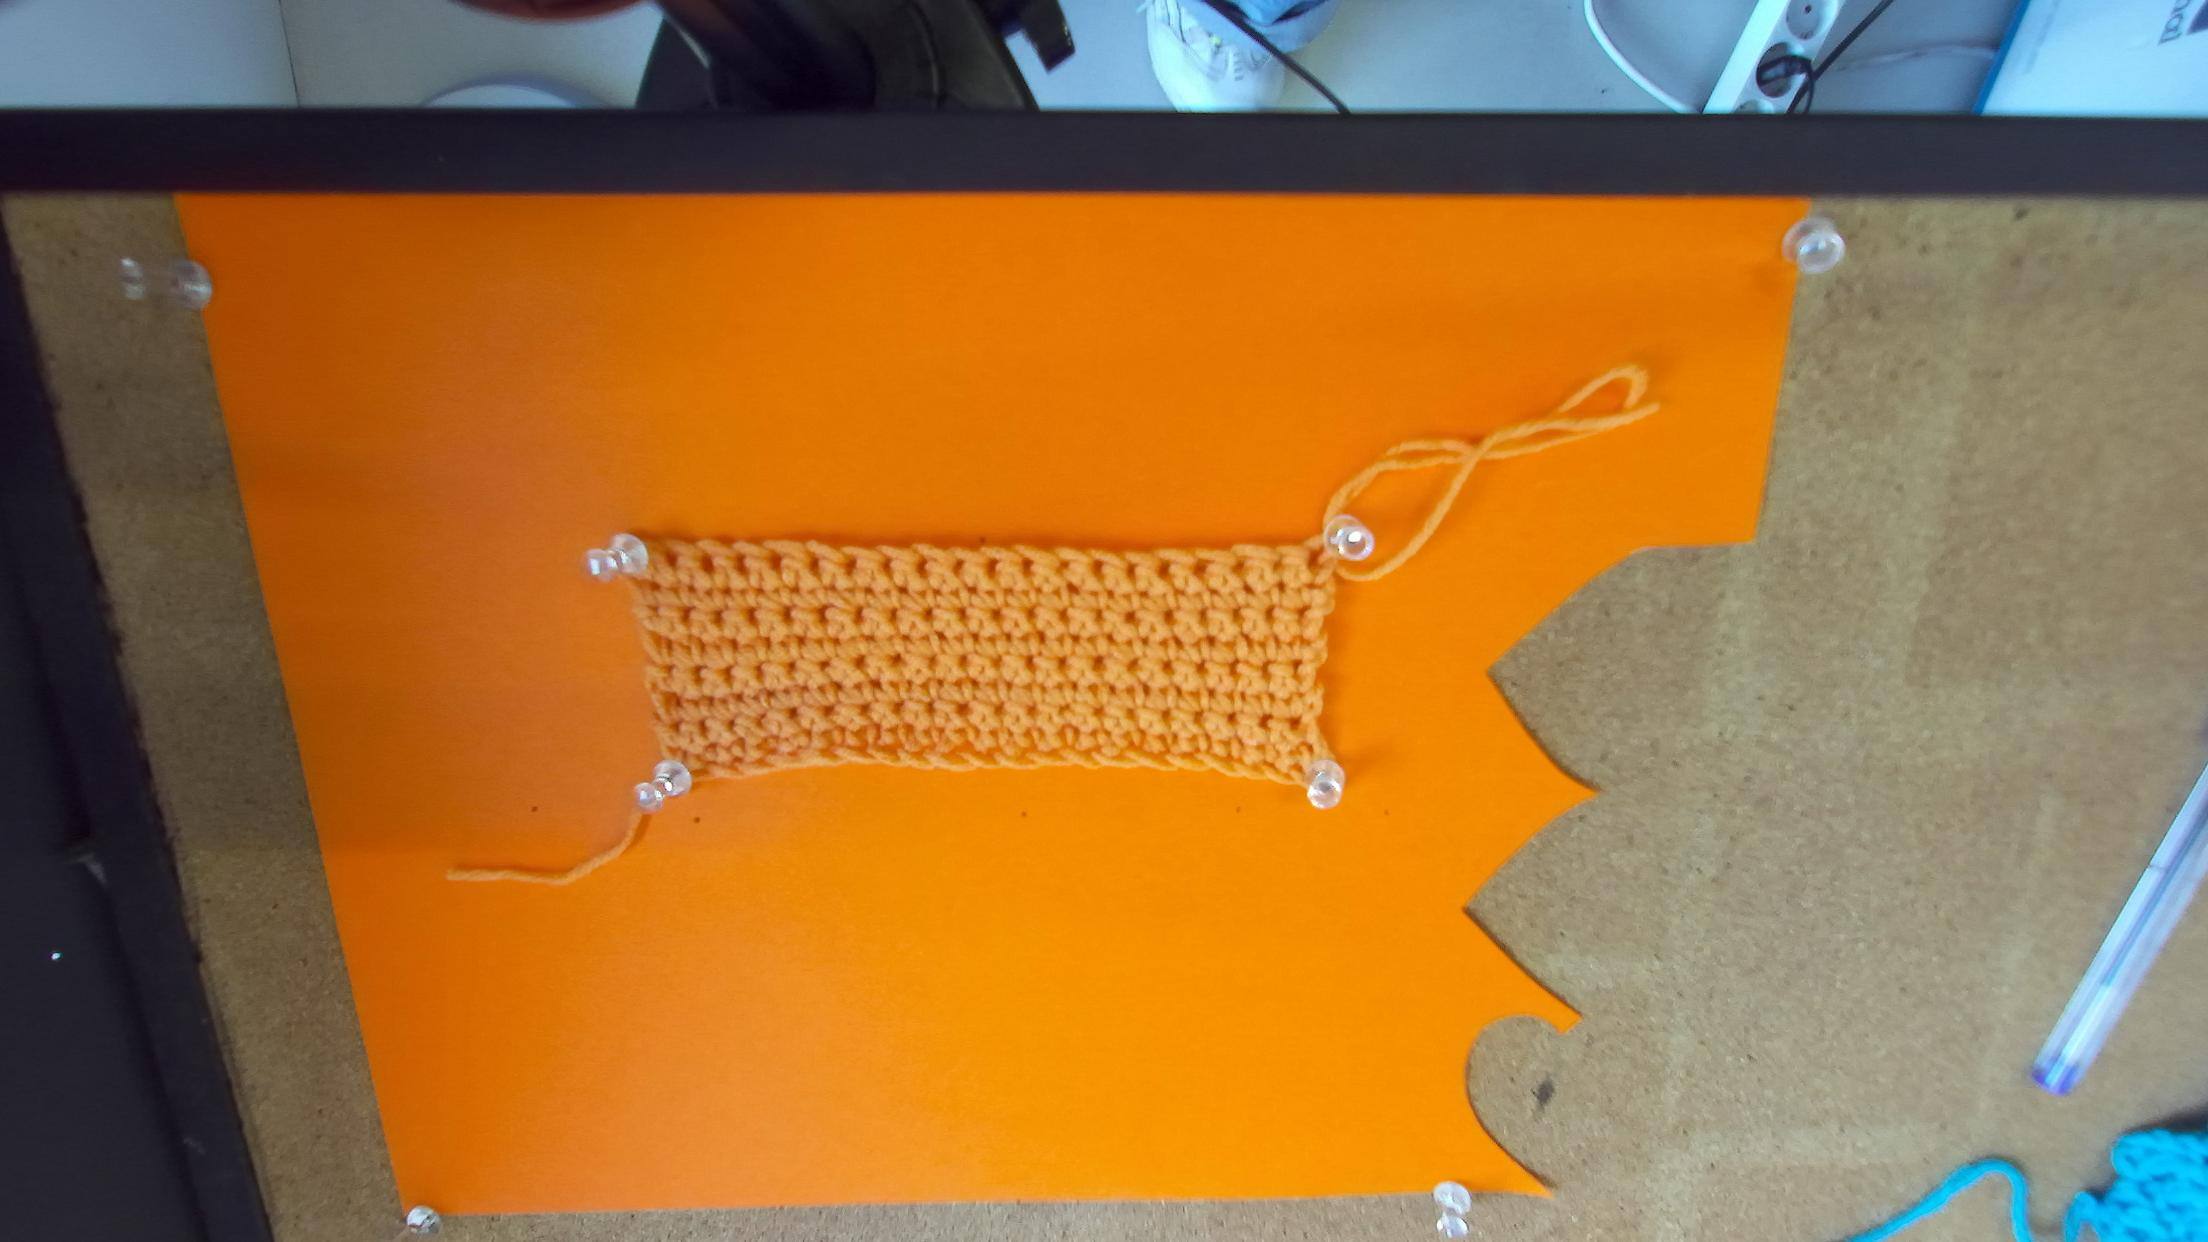hole: (767, 549, 784, 573), (732, 554, 749, 576), (842, 555, 858, 576), (699, 554, 716, 573), (916, 557, 931, 578), (663, 549, 679, 567), (1193, 560, 1212, 576), (1309, 543, 1321, 567), (951, 558, 964, 579), (986, 558, 999, 579), (1021, 557, 1034, 578), (1127, 561, 1140, 582), (1055, 558, 1072, 575), (808, 552, 820, 575), (1160, 560, 1175, 578), (1092, 558, 1106, 578), (1231, 557, 1247, 573), (881, 555, 893, 573), (1272, 555, 1283, 572)
swatch: (585, 537, 1347, 814)
